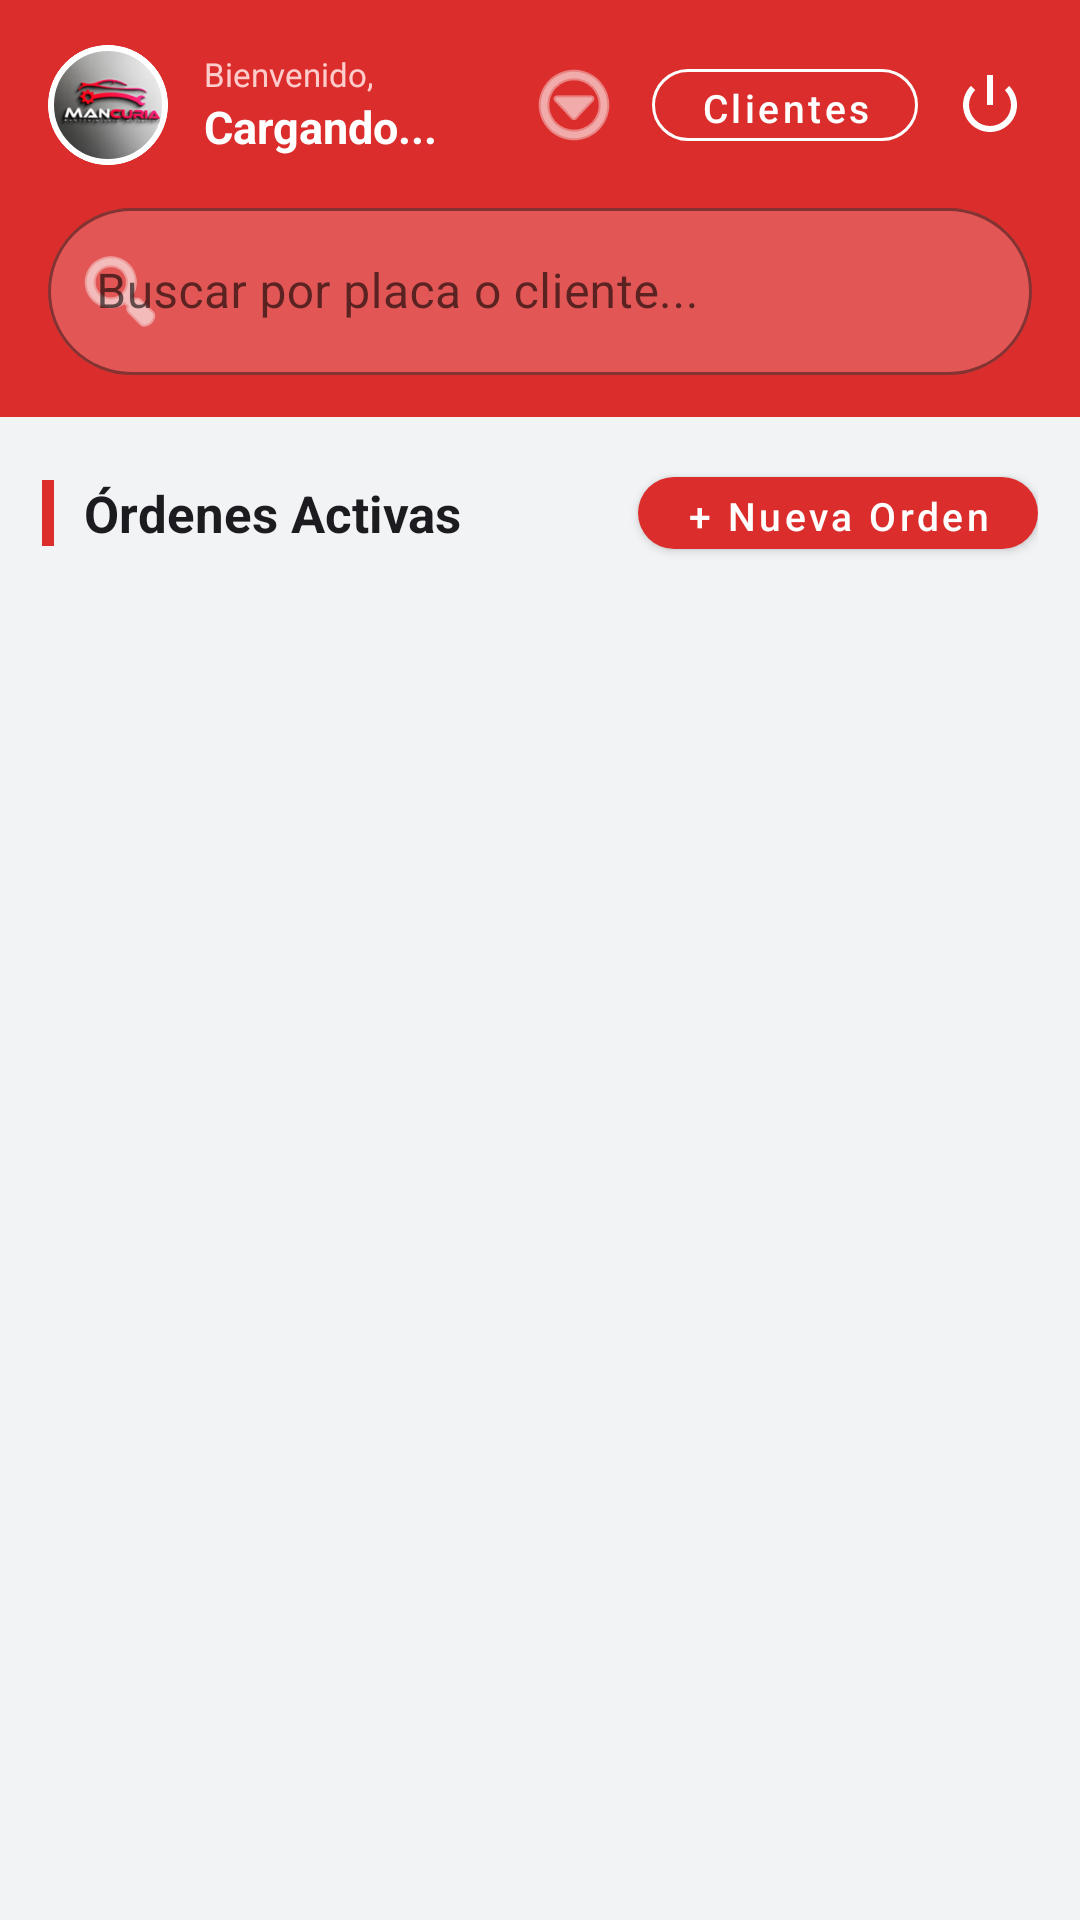

Icons on this 1080 × 1920 Android screen, each with the point to tap as [x,y]:
Cerrar sesión: [990,103]
Opciones de usuario: [574,105]
